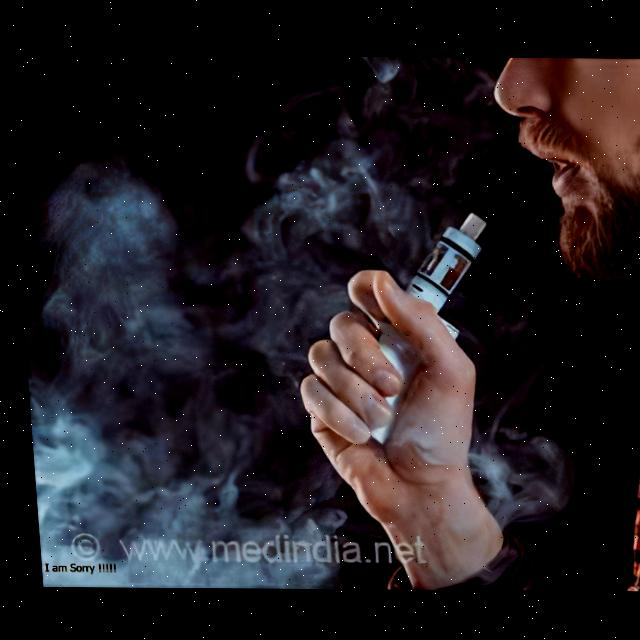vape: (351, 208, 499, 449)
